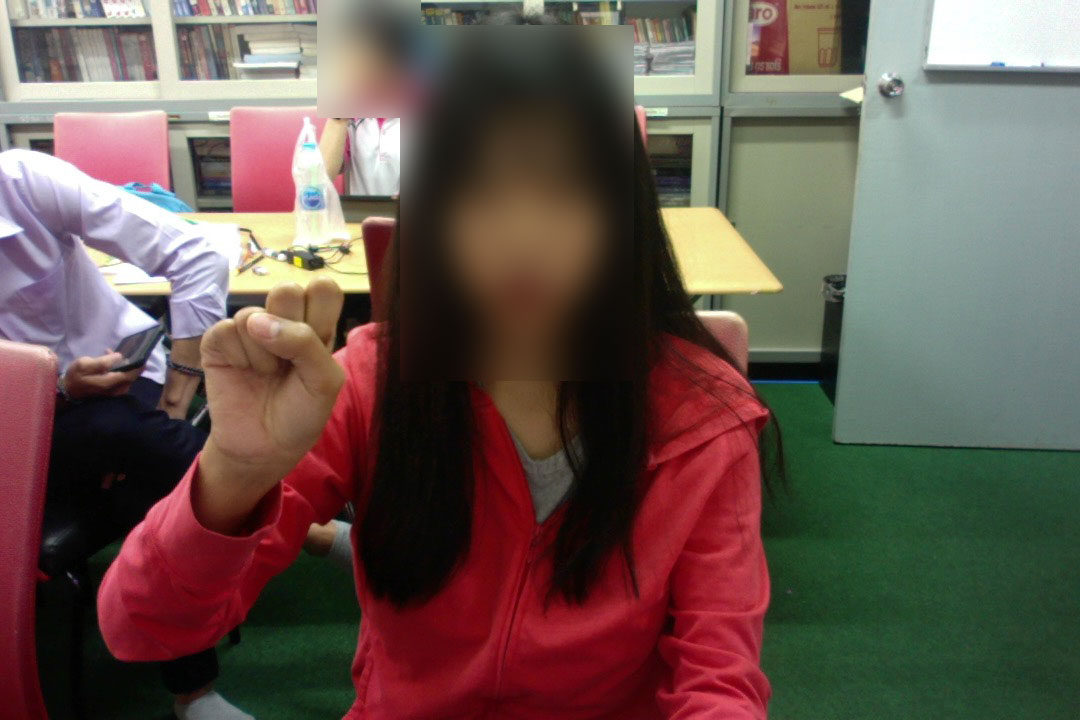sor: (194, 273, 355, 477)
